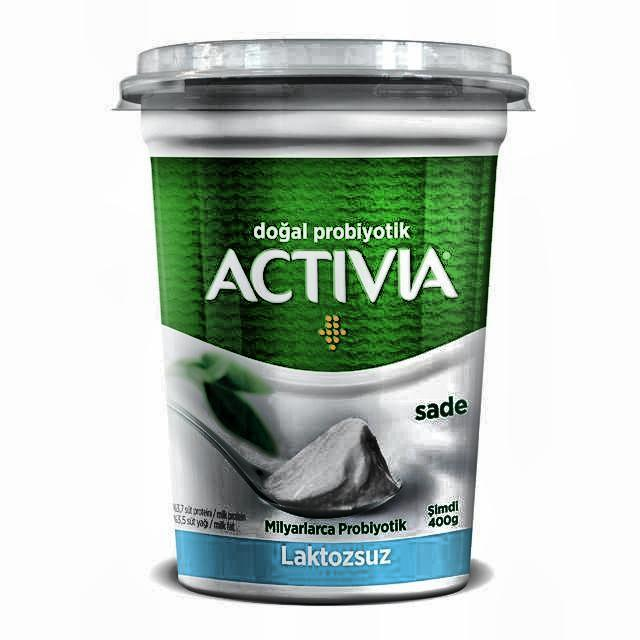plastic: (118, 37, 529, 608)
